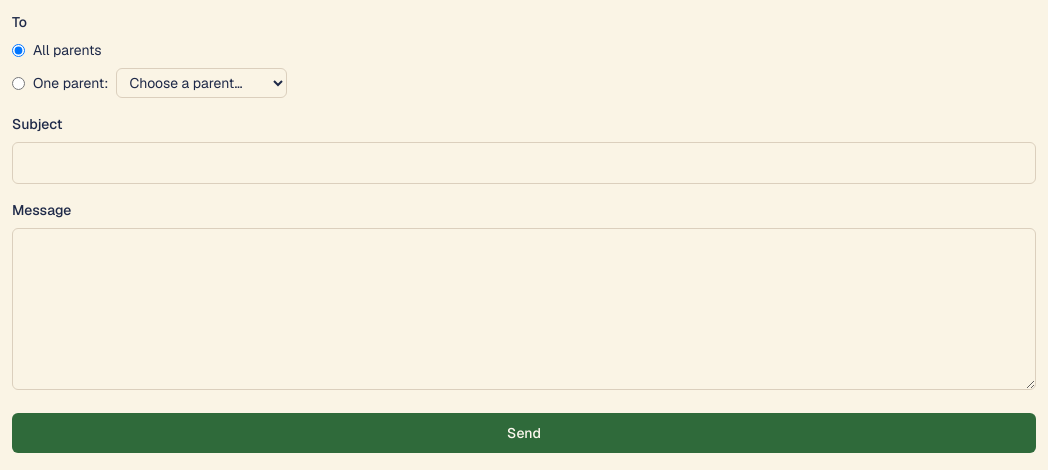
Scenario: ComposeForm audience picker › returns to All parents when that radio is clicked directly
The image size is (1048, 470).
Click the dropdown named "Which parent".
click(202, 83)  # box [116, 68, 287, 98]
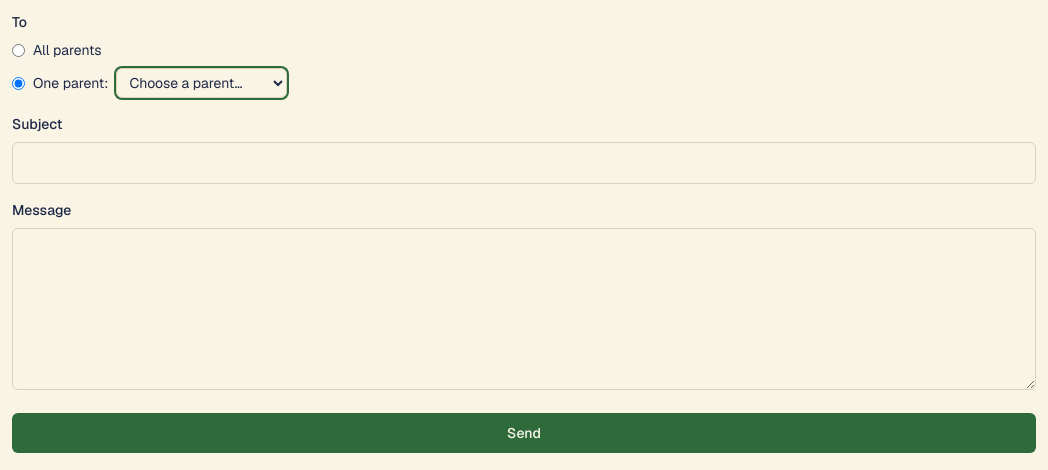
Click the radio button labelled "All parents".
click(18, 50)  # box [12, 44, 25, 56]
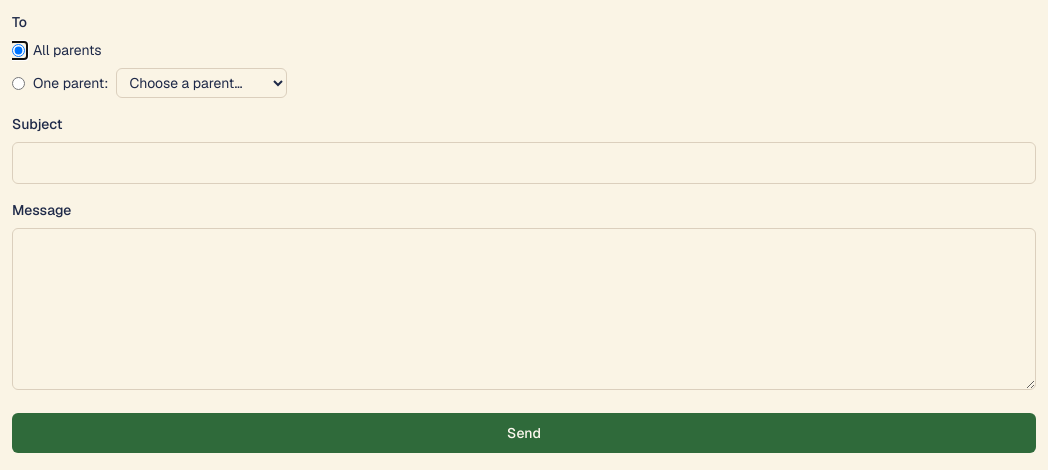
Now the radio button labelled "All parents" is checked, box [12, 44, 25, 56]
Now the radio button labelled "One parent:" is not checked, box [12, 76, 25, 90]
